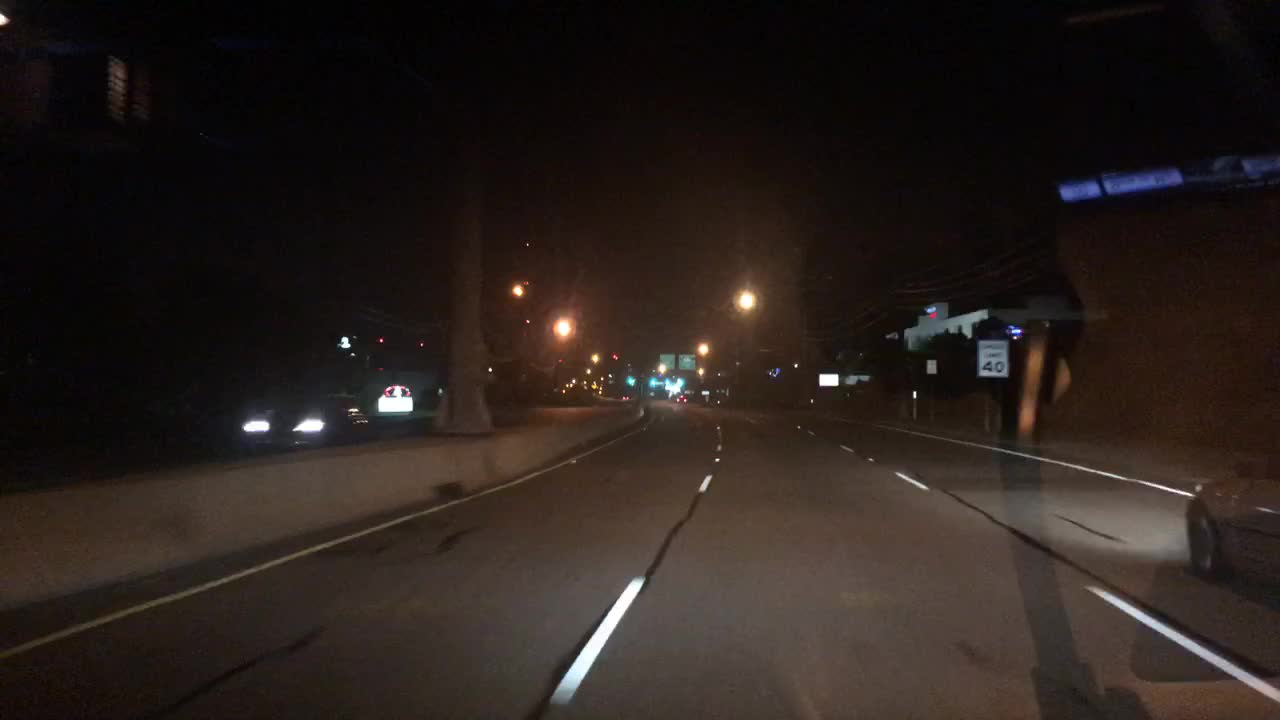car: (1181, 441, 1276, 597), (240, 388, 376, 450), (675, 393, 690, 404), (618, 393, 633, 402)
traffic light: (649, 375, 659, 389), (676, 375, 685, 389), (626, 374, 636, 386), (609, 351, 622, 360), (664, 371, 670, 385)
traffic sign: (976, 339, 1008, 379), (676, 353, 696, 370), (658, 353, 675, 370)
